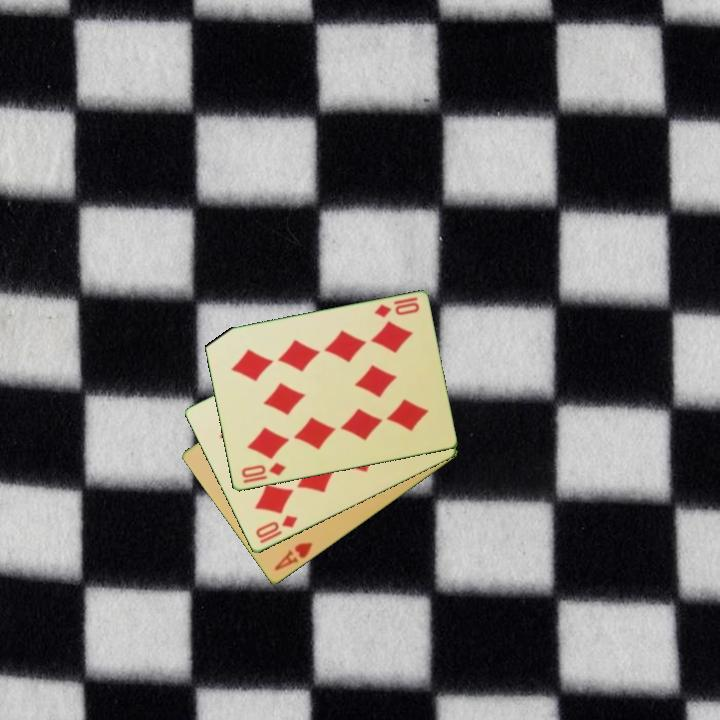10d: (252, 512, 300, 547), (370, 294, 422, 321), (237, 459, 288, 481)
Ah: (270, 539, 315, 574)
